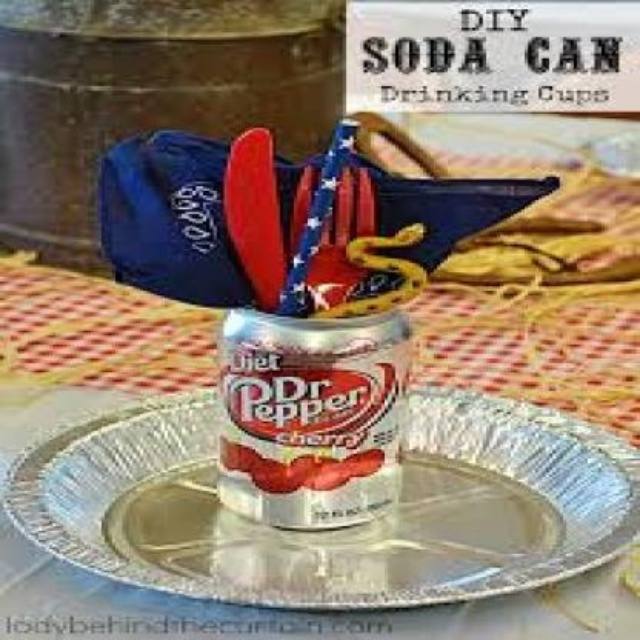trash: (218, 308, 408, 529)
